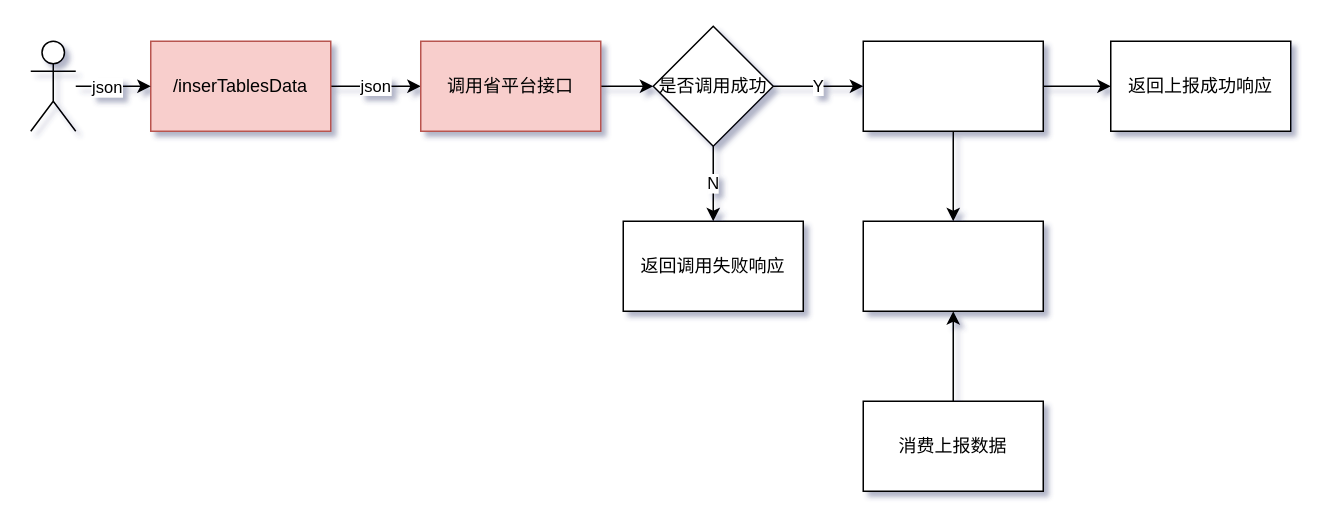
The diagram is 1326 pixels wide and 527 high, and some of its shapes have lost their labels. Here are the shapes that lost their labels. From the top down, the centre of each, then its label:
the point at 52,85: 客户端
the point at 952,85: 将上报数据发往mq
the point at 952,265: rabbitmq
